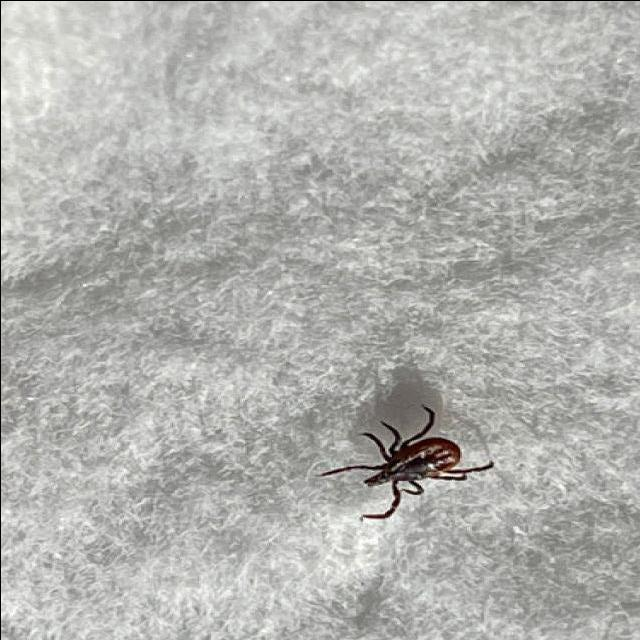Ixodes Ricinus-F: (323, 403, 495, 520)
